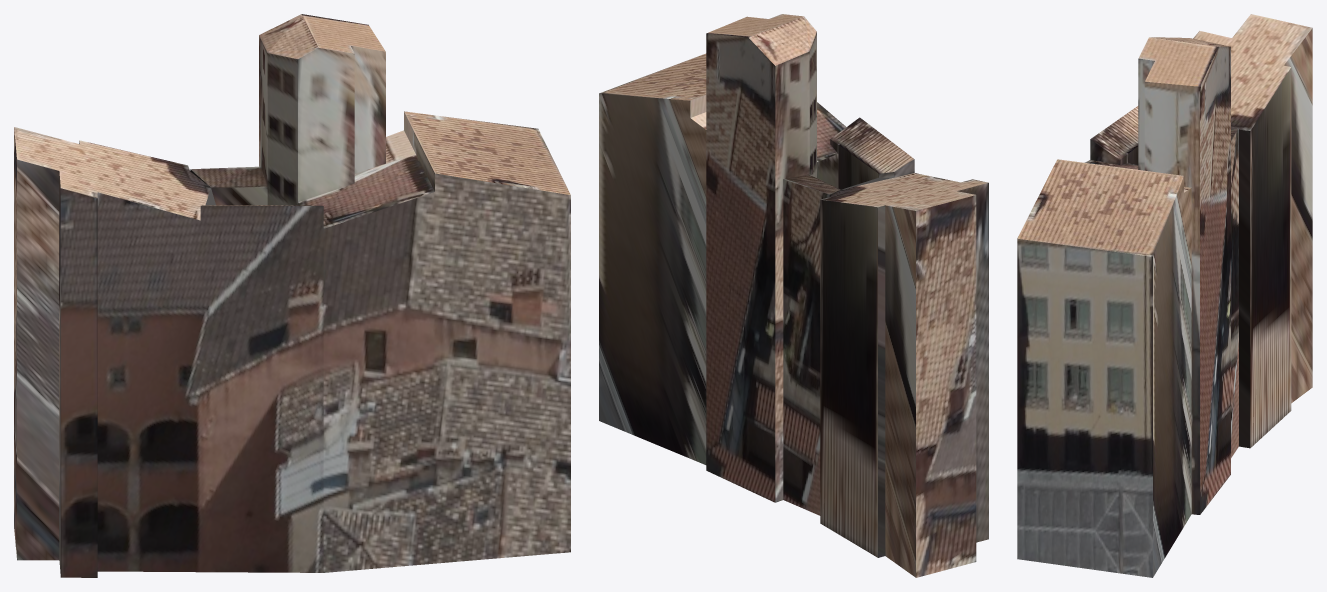
3 renders of one model, left to right at view 1: azimuth 30°, elevation 25°; view 2: azimuth 150°, elevation 25°; view 3: azimuth 270°, elevation 25°, orthographic. The views are drawn at different scales.
Parts seen in each view (by area): view 1: Z_UP; view 2: Z_UP; view 3: Z_UP.
Part boxes in pixels (<box>): Z_UP: <box>14,14,570,577</box>; Z_UP: <box>599,14,988,577</box>; Z_UP: <box>1017,14,1312,577</box>.
Size of the model in its own units: 24.25 by 24.55 by 14.83.
2 materials, 1 textured.
